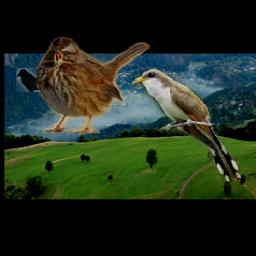Crow: (17, 69, 51, 93)
Cuckoo: (133, 69, 242, 182)
Sparrow: (37, 36, 151, 134)
